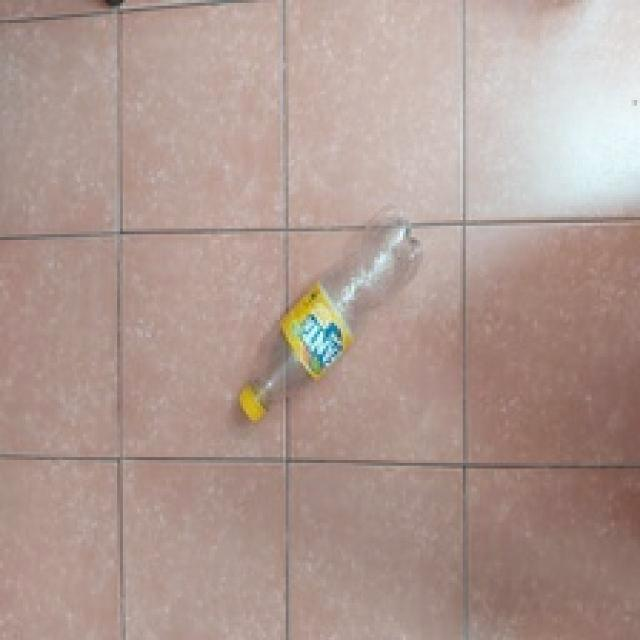bottle: (239, 214, 429, 424)
